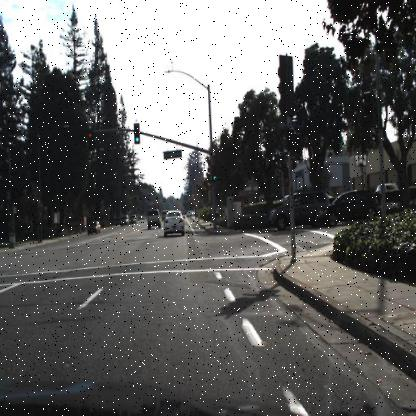car: (267, 190, 329, 232), (314, 188, 378, 228), (270, 191, 329, 228), (317, 192, 379, 226), (163, 209, 185, 238), (146, 204, 161, 226), (86, 220, 100, 235), (89, 218, 102, 234), (118, 213, 130, 228), (158, 206, 170, 220), (129, 213, 138, 226), (120, 214, 129, 226), (128, 214, 136, 223)
trafficLight-Green: (134, 122, 141, 145), (210, 163, 218, 181), (134, 120, 140, 143), (212, 167, 217, 186)
trafficLight-RedLeft: (87, 130, 94, 151), (87, 130, 93, 148)
